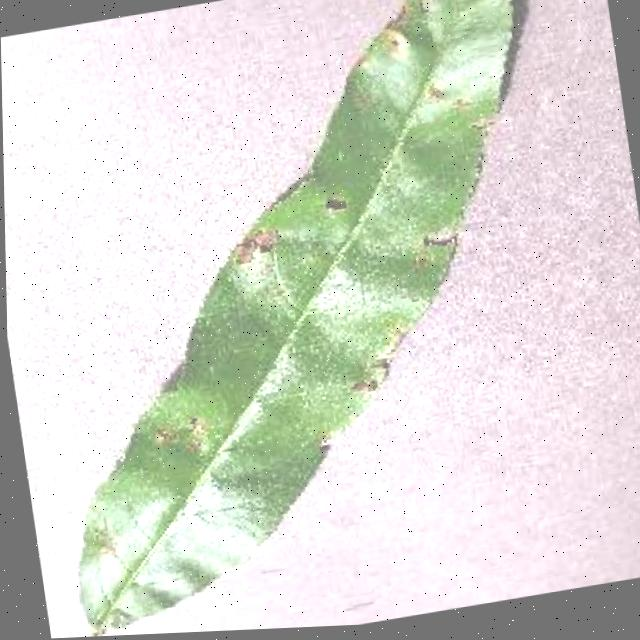Bacterial_spot: (386, 0, 516, 35), (134, 413, 222, 464), (229, 218, 293, 272)
